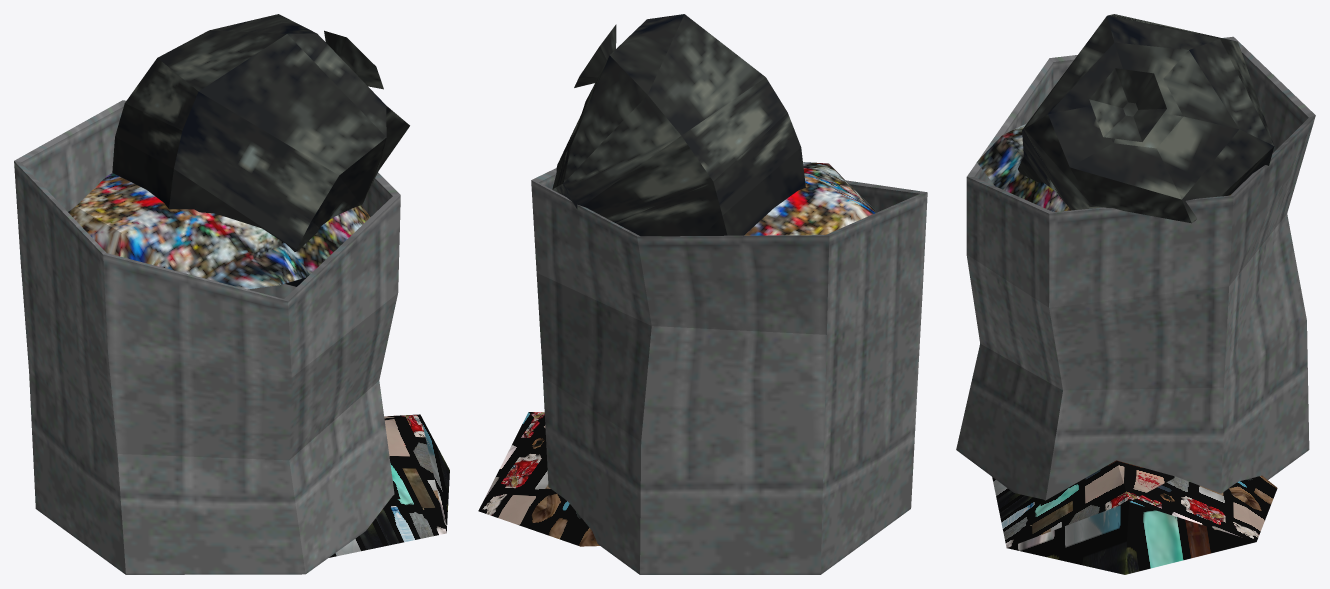
The model's file is Urban_MetaltrashcanBeatenOverflowing_Model.fbx.
The picture shows the model from 3 angles, left to right: view 1: azimuth 30°, elevation 25°; view 2: azimuth 150°, elevation 25°; view 3: azimuth 270°, elevation 25°; orthographic projection.
Parts seen in each view (by area): view 1: Urban_MetaltrashcanBeatenOverflowing_Mesh; view 2: Urban_MetaltrashcanBeatenOverflowing_Mesh; view 3: Urban_MetaltrashcanBeatenOverflowing_Mesh.
Part boxes in pixels (left/top/right/bottom): Urban_MetaltrashcanBeatenOverflowing_Mesh: left=14, top=14, right=449, bottom=574; Urban_MetaltrashcanBeatenOverflowing_Mesh: left=478, top=14, right=927, bottom=574; Urban_MetaltrashcanBeatenOverflowing_Mesh: left=956, top=14, right=1315, bottom=574.
Size of the model in its own units: 0.9401 by 1.17 by 0.7736.
